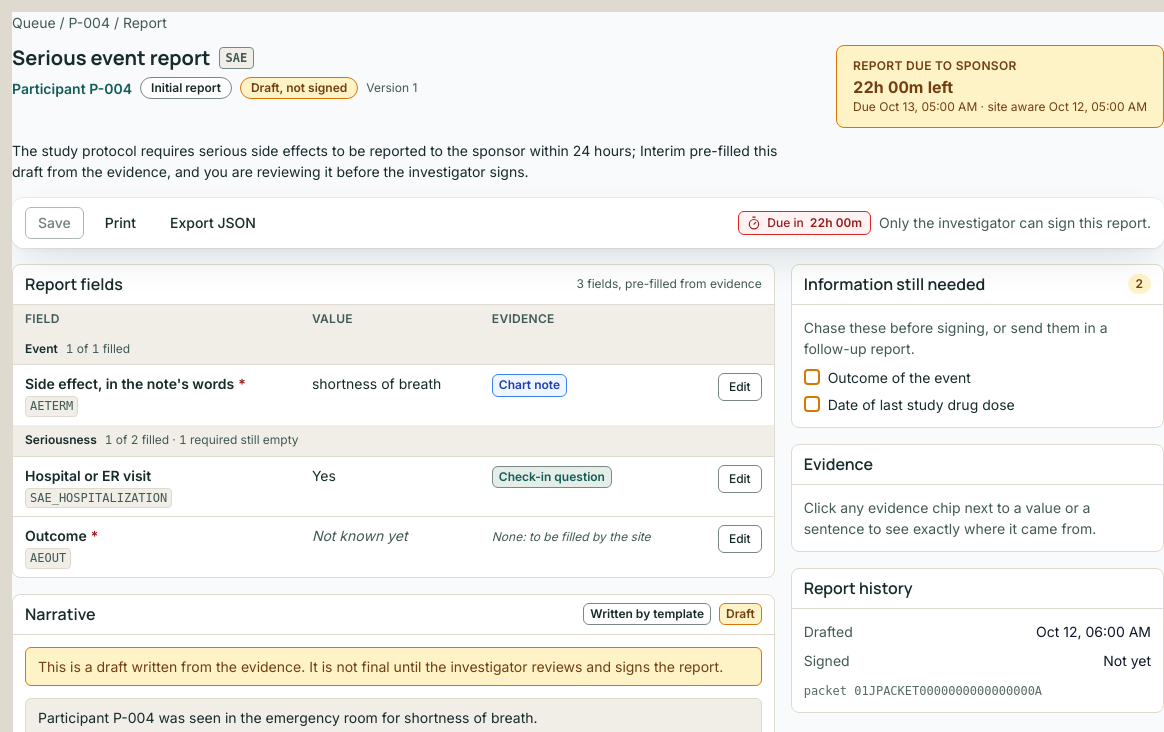
PacketPage: header and fields › shows a field's evidence (kind, quote, time, id, source link) on click
Click the button with aria-label "Show evidence: Chart note".
click(529, 386)  # box [492,374,567,397]
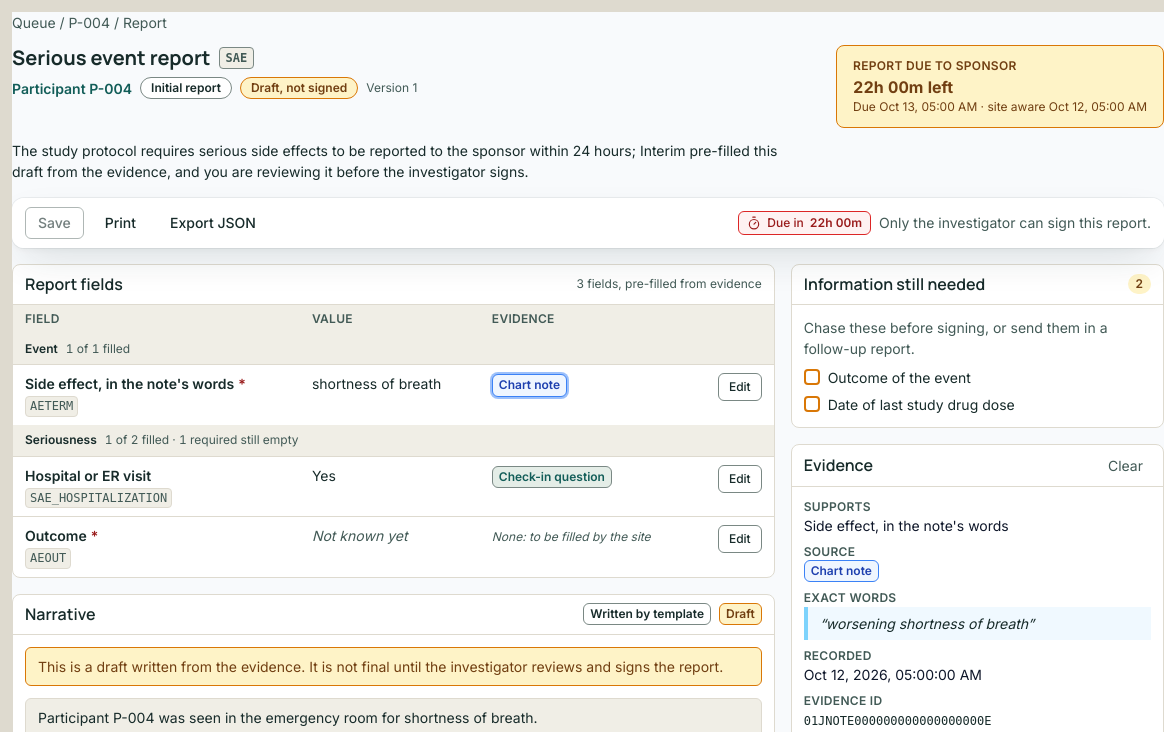
Now the text "“worsening shortness of breath”" is shown, box [804,606,1151,640]
Now the text "01JNOTE000000000000000000E" is shown, box [804,714,992,728]
Now the text "Side effect, in the note's words" is shown, box [804,517,1009,534]
